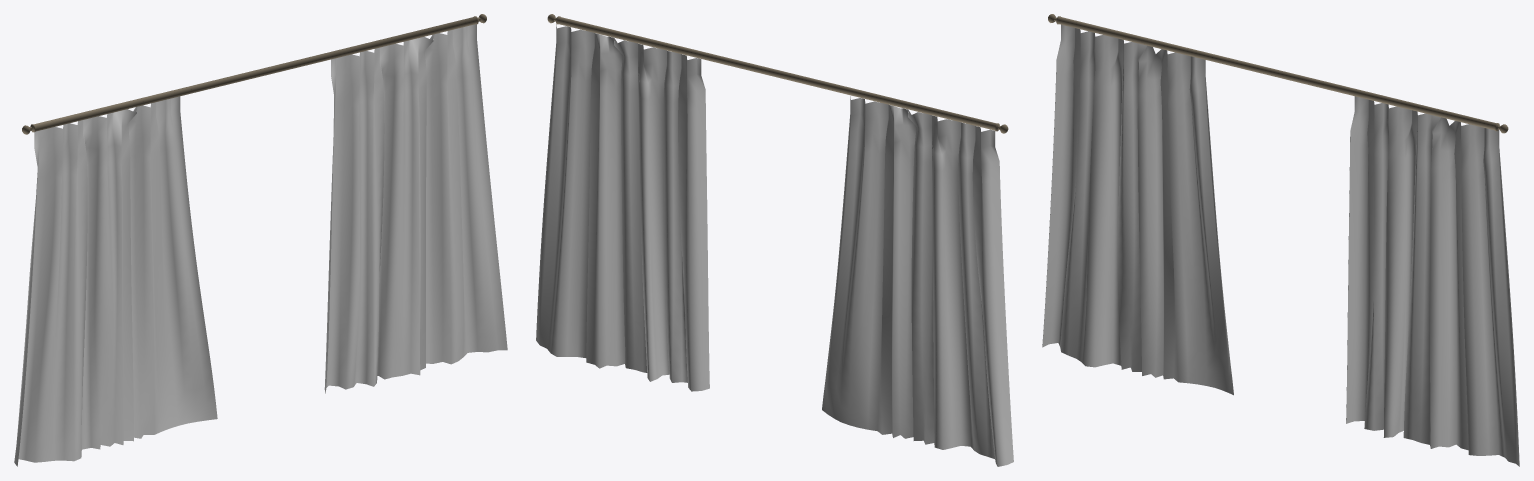
The model's file is Curtain01.FBX.
3 renders of one model, left to right at view 1: azimuth 30°, elevation 25°; view 2: azimuth 150°, elevation 25°; view 3: azimuth 330°, elevation 25°, orthographic.
Parts seen in each view (by area): view 1: Curtain01, Curtain01m; view 2: Curtain01, Curtain01m; view 3: Curtain01, Curtain01m.
Boxes of the visible parts, x1,y1,x2,y2 form: Curtain01: (14, 24, 507, 466); Curtain01m: (22, 14, 486, 134); Curtain01: (536, 24, 1013, 466); Curtain01m: (547, 14, 1008, 133); Curtain01: (1042, 24, 1519, 466); Curtain01m: (1048, 14, 1508, 133).
Bounding box in the file's own units: 216 × 144 × 12.14.
